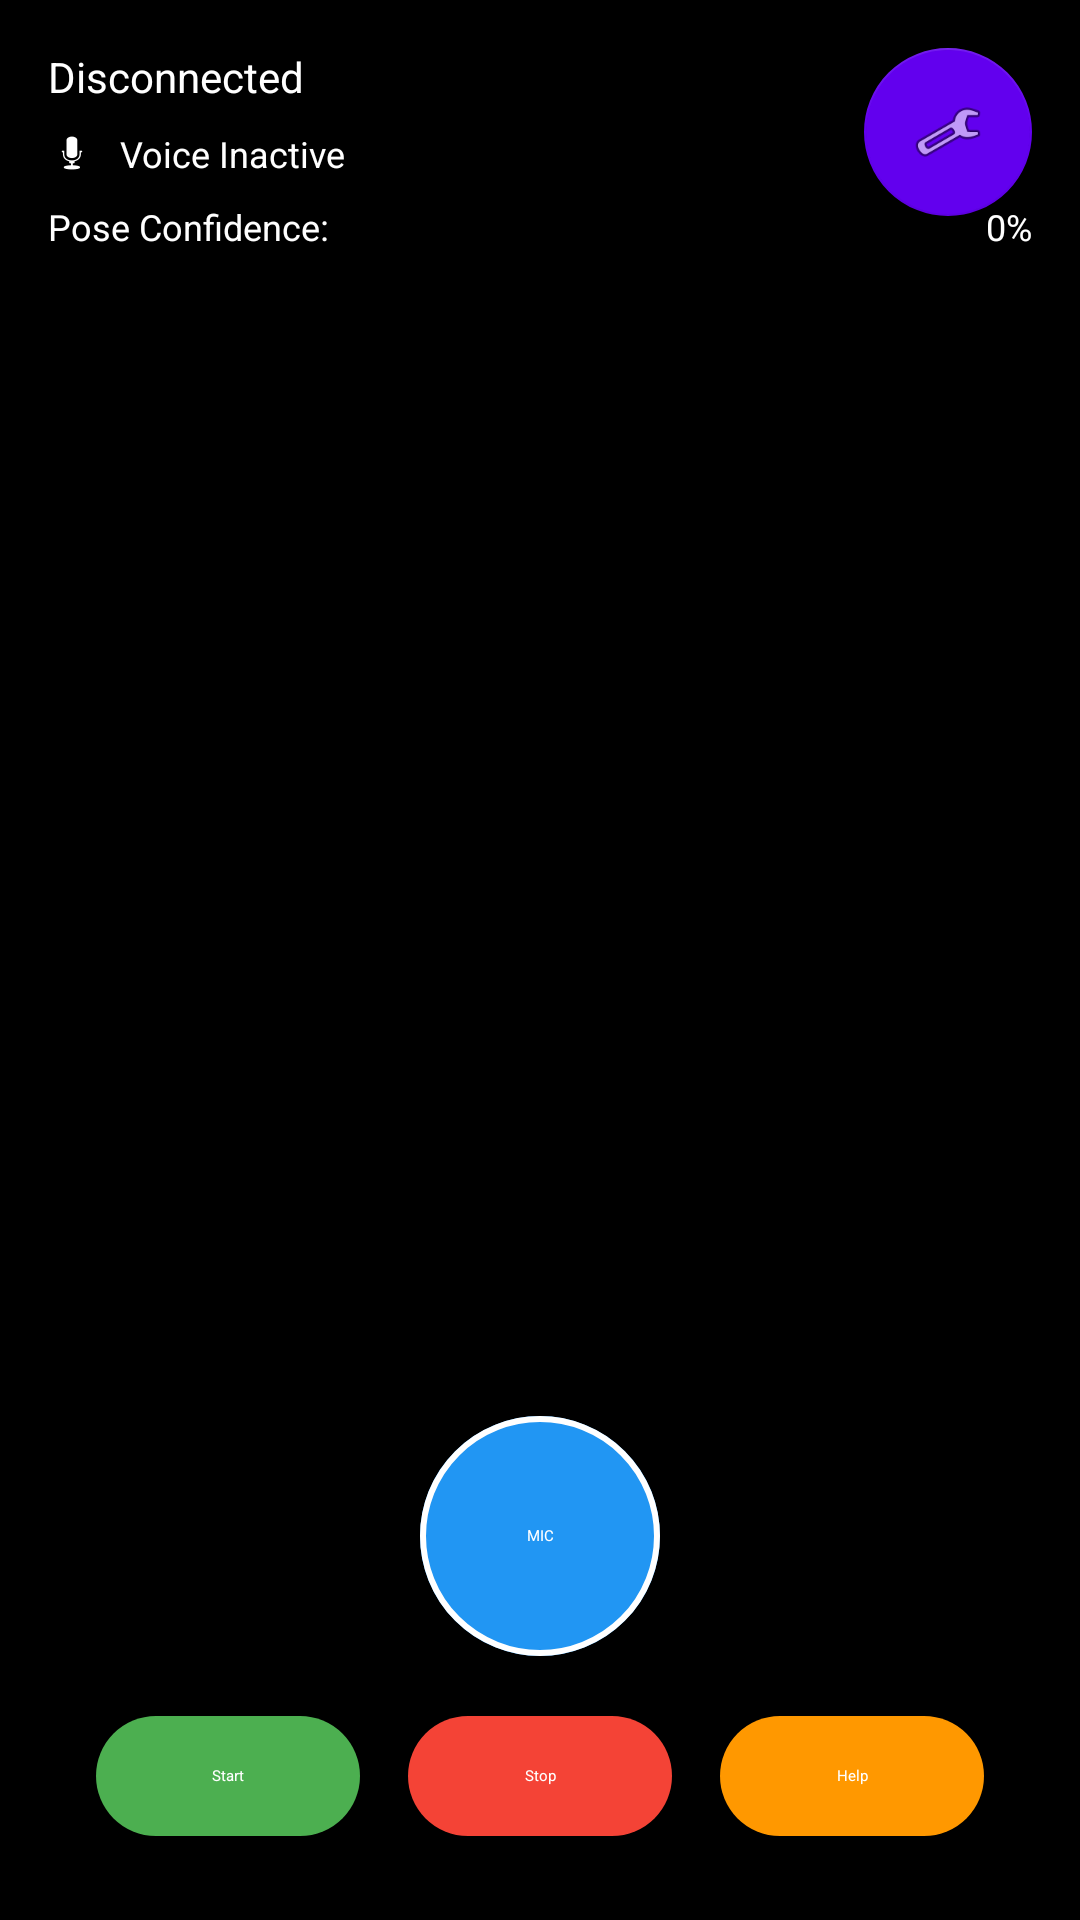

Screen size 1080×1920. Icon name, then its box in pixels as (x1, y1, x2, y2):
preferences: (864, 48, 1032, 216)
speak now: (61, 136, 83, 170)
